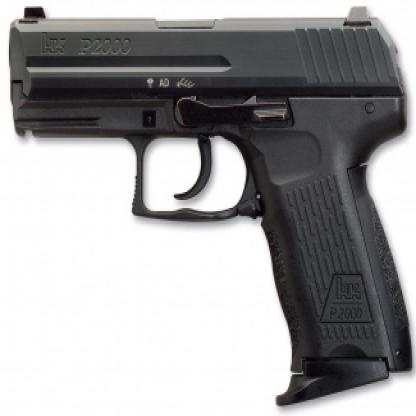Guns: (4, 0, 415, 408)
